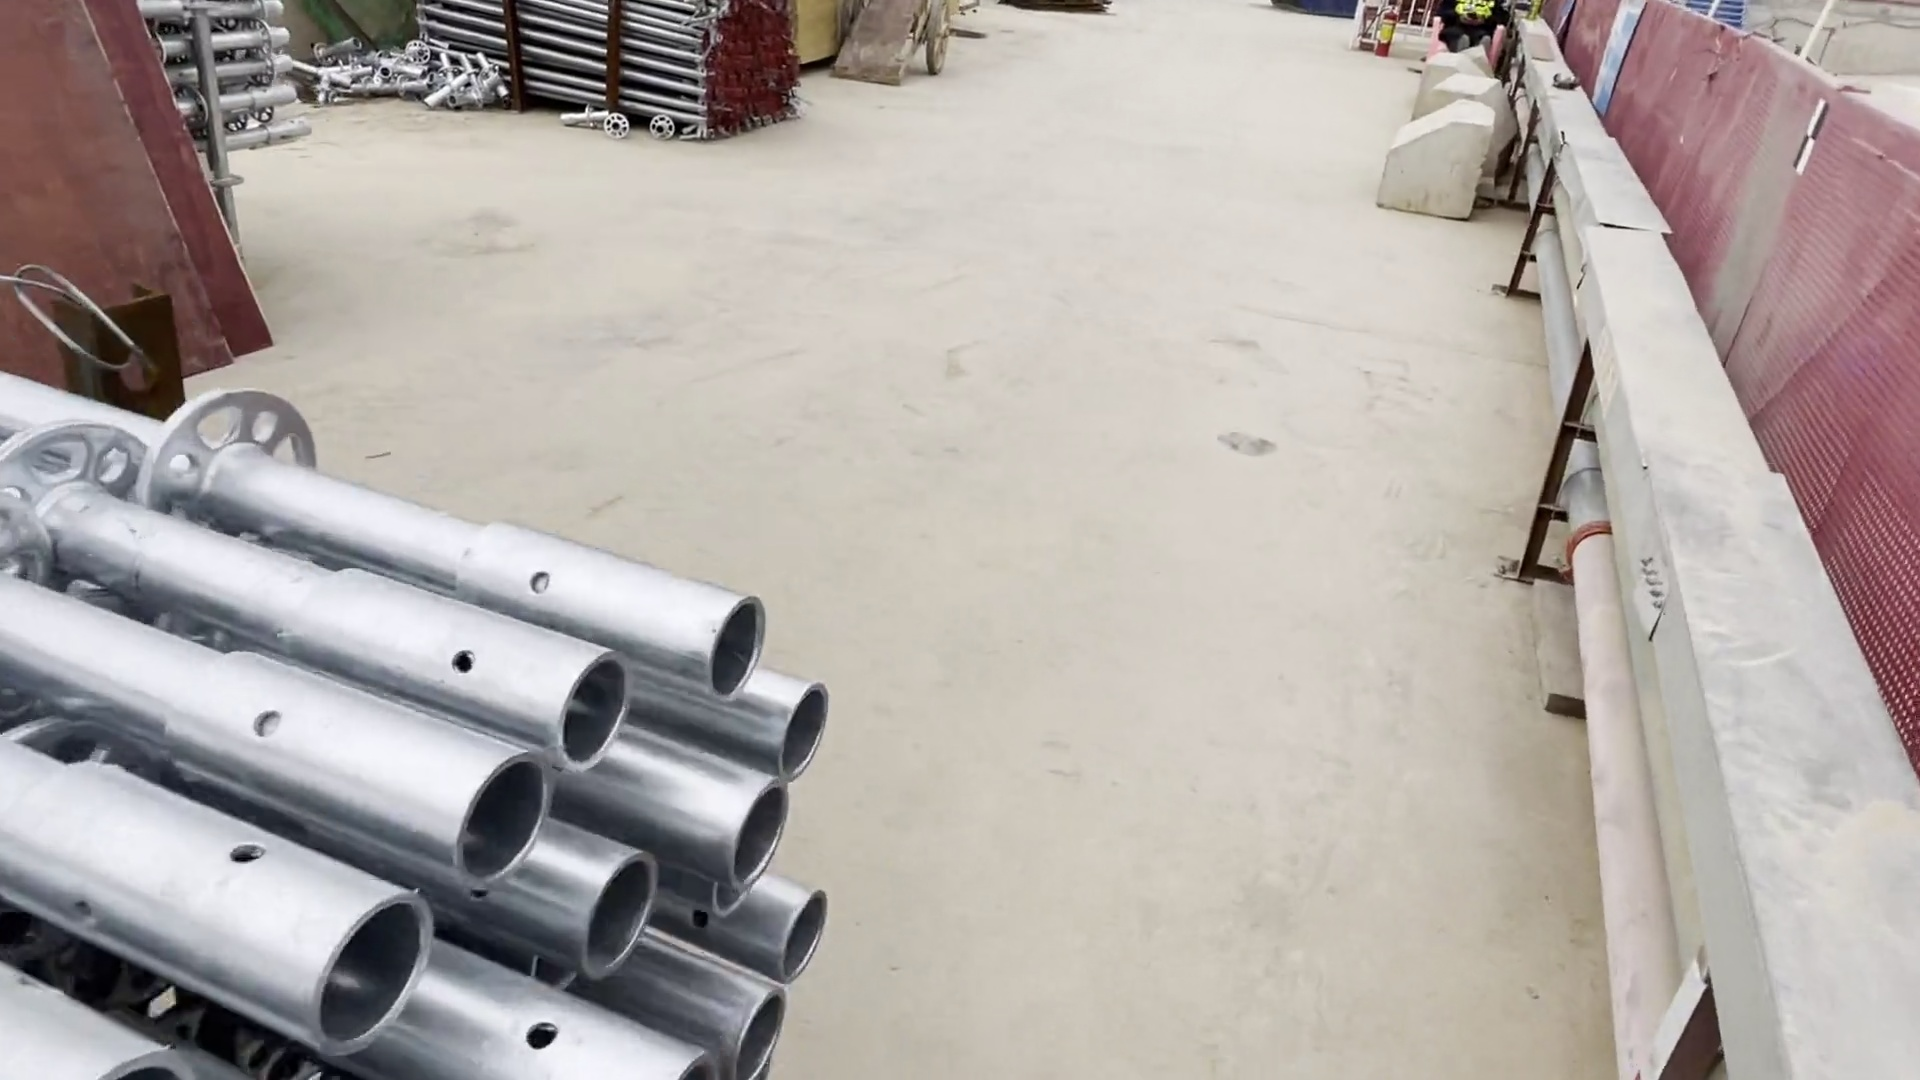scaffold: (1, 415, 876, 1062), (415, 1, 800, 167), (162, 1, 330, 152)
